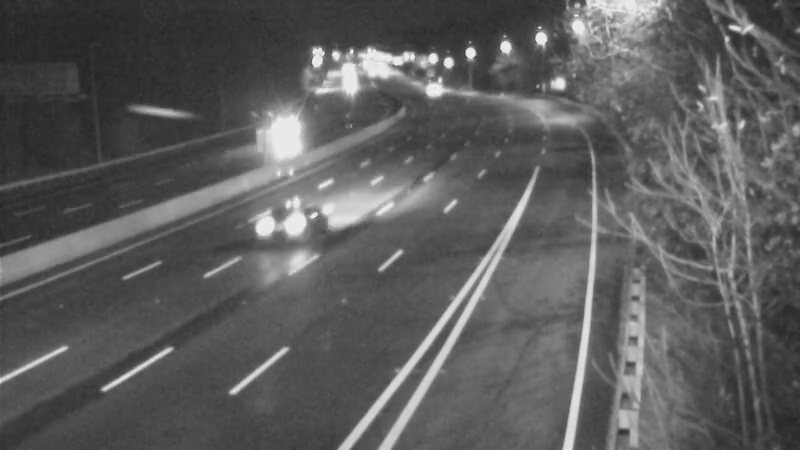vehicle: (237, 181, 317, 261), (405, 67, 455, 117), (255, 115, 305, 165)
